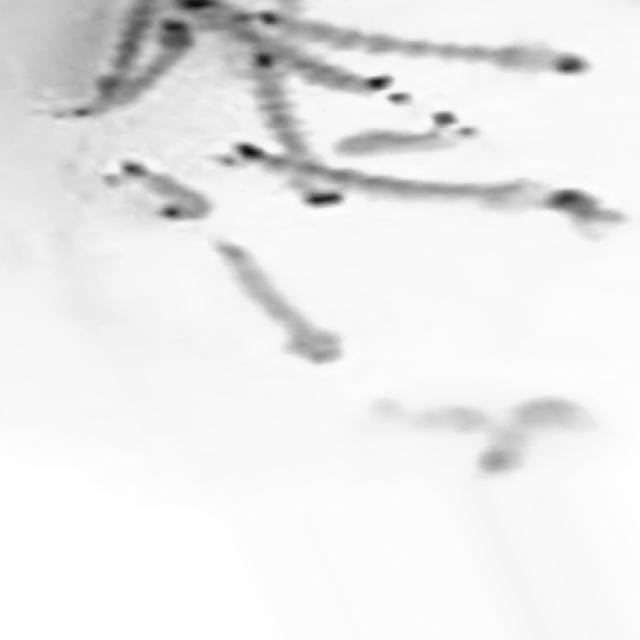larvas: (243, 138, 601, 224), (266, 7, 589, 84), (179, 0, 399, 108), (246, 53, 346, 212), (69, 14, 197, 137), (224, 247, 336, 364), (486, 398, 580, 472), (96, 3, 161, 90), (345, 123, 472, 156), (128, 165, 204, 219)
